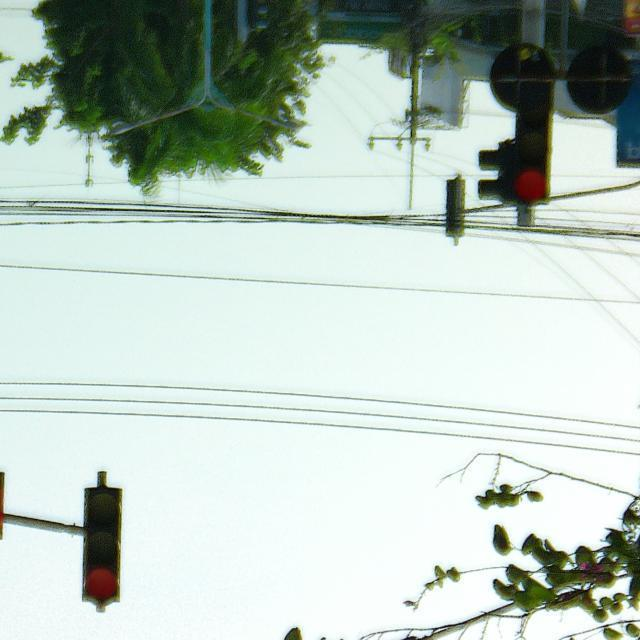red_light: (468, 60, 574, 268), (40, 456, 161, 630)
